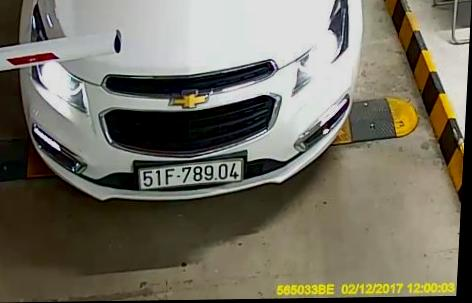License_Plate: (135, 157, 247, 188)
